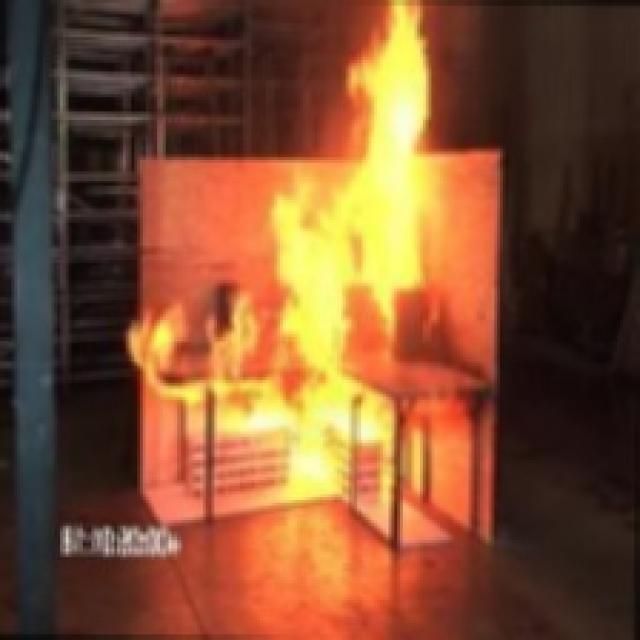fire: (121, 3, 476, 511)
